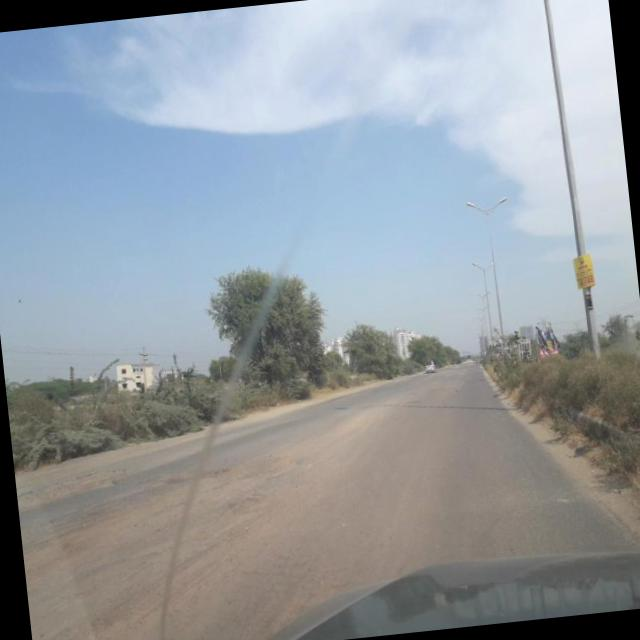pothole: (210, 441, 306, 502), (18, 464, 134, 509)
